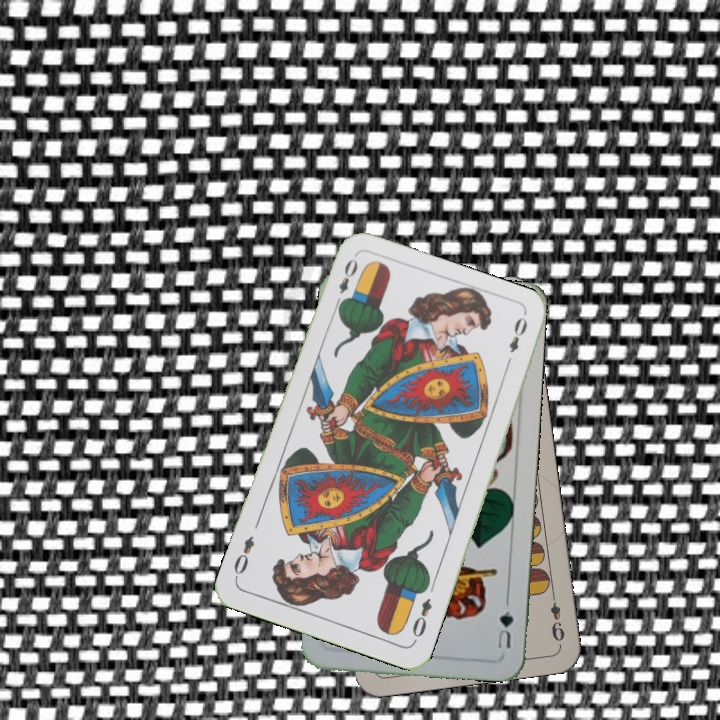E9: (546, 588, 567, 644)
EO: (331, 254, 361, 311), (408, 594, 435, 645)
GU: (493, 606, 516, 651)
